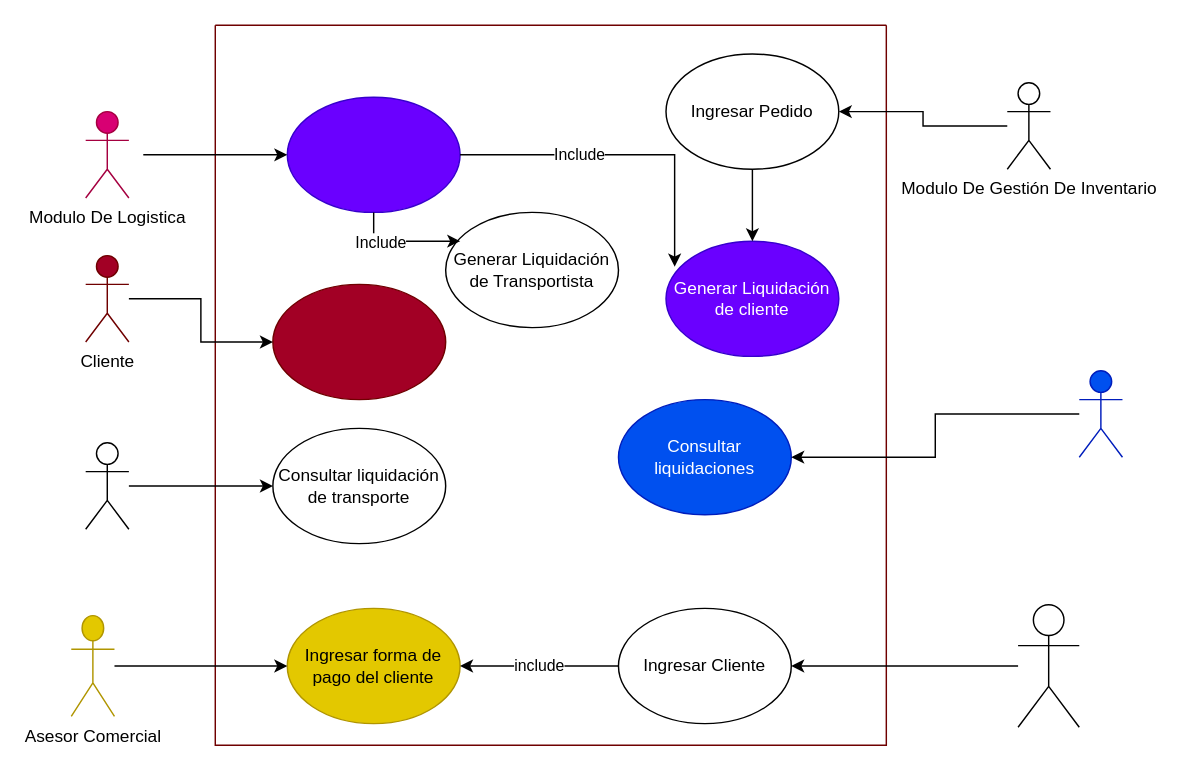
Some shapes in this 1195 by 782 pixel diagram are drawn without their labels. Here are the shapes that lost their labels. From the top down, the centre of each, then its label:
point (373, 154): Ingresar tasa de efectividad de la distribución del pedido
point (358, 341): Consultar liquidación personal
point (1100, 413): Contador
point (106, 485): Transportista
point (1048, 665): Modulo de Gestión de Usuarios
